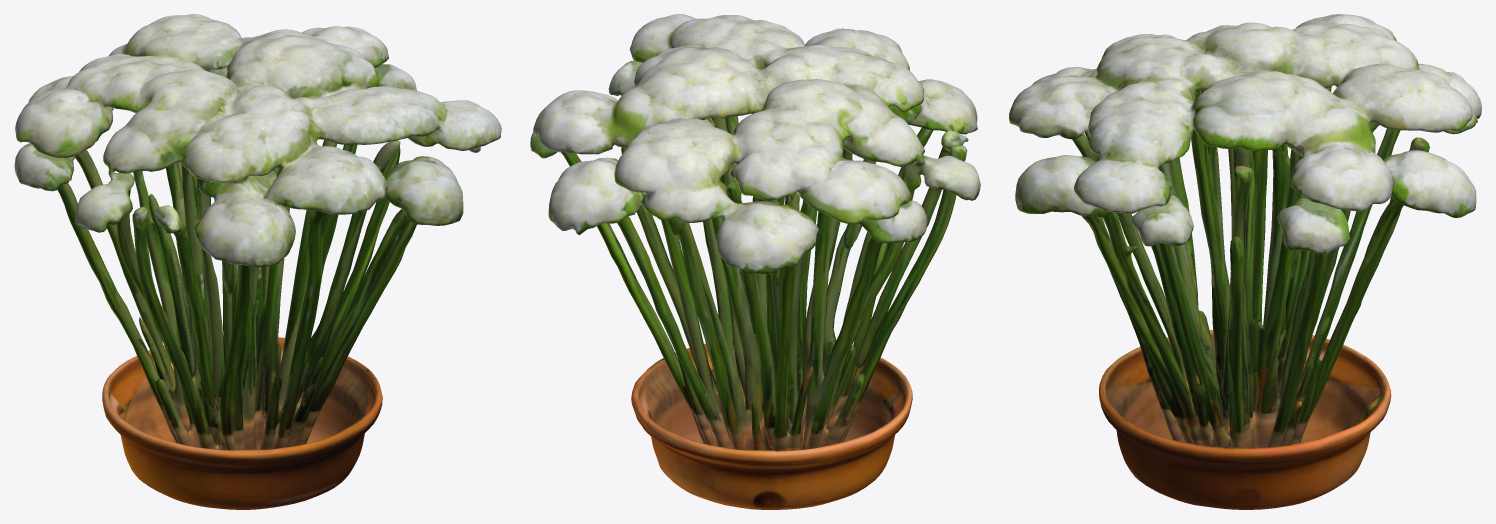
Rendered from herb0001.gltf.
The picture shows the model from 3 angles, left to right: view 1: azimuth 30°, elevation 25°; view 2: azimuth 150°, elevation 25°; view 3: azimuth 270°, elevation 25°; orthographic projection. The views are drawn at different scales.
Visible parts, largest first — view 1: Mesh_0; view 2: Mesh_0; view 3: Mesh_0.
Part boxes in pixels (x1=…): Mesh_0: x1=14, y1=14, x2=501, y2=509; Mesh_0: x1=530, y1=14, x2=980, y2=509; Mesh_0: x1=1009, y1=14, x2=1481, y2=509.
Bounding box in the file's own units: 1.97 × 1.95 × 1.99.
Materials: 1 (1 with a texture image).
